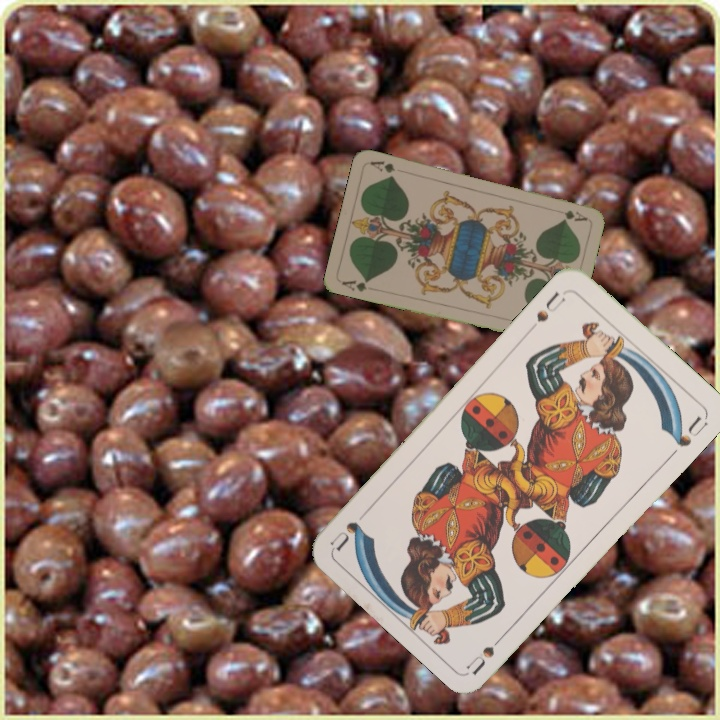GA: (554, 206, 590, 224), (338, 276, 371, 294)
SU: (463, 626, 511, 676), (525, 287, 569, 334)
